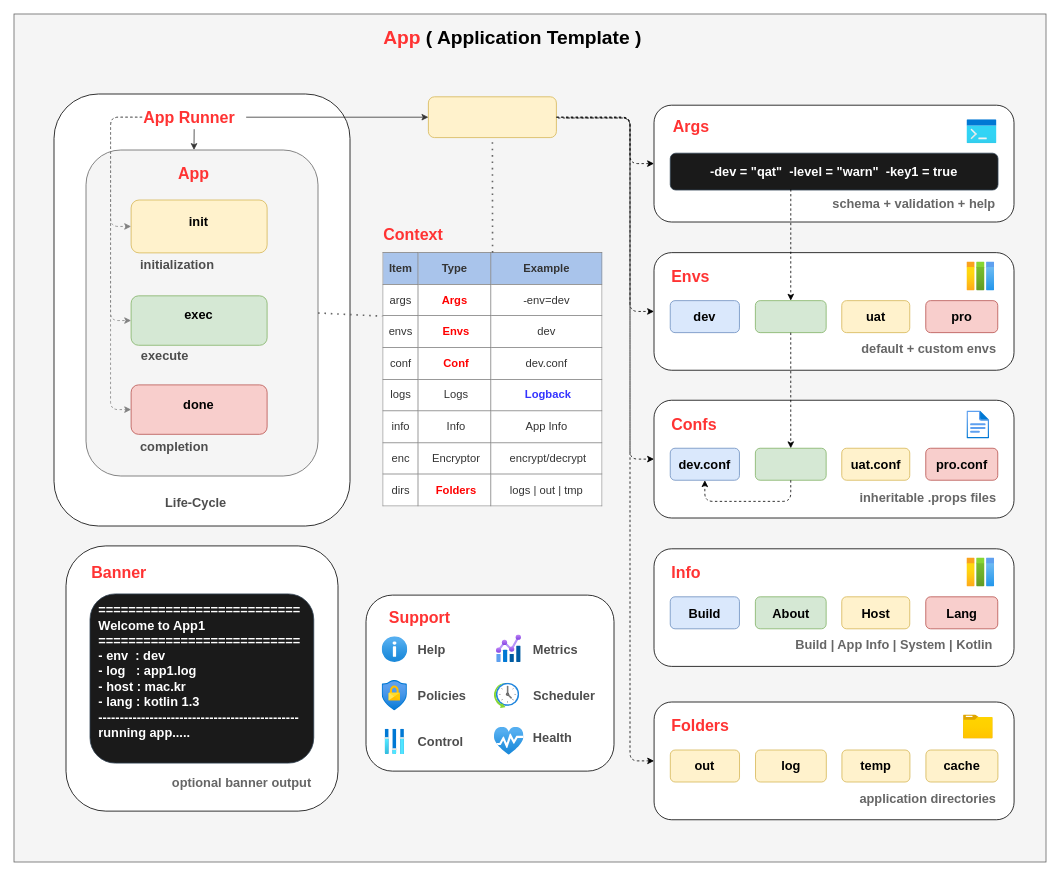
Image size: 1060x876. Some labels were removed from this diagram. The centre of each missing label's shape, as x and y in pixels:
App Builder: (492,117)
qat: (790,316)
qat.conf: (790,463)
